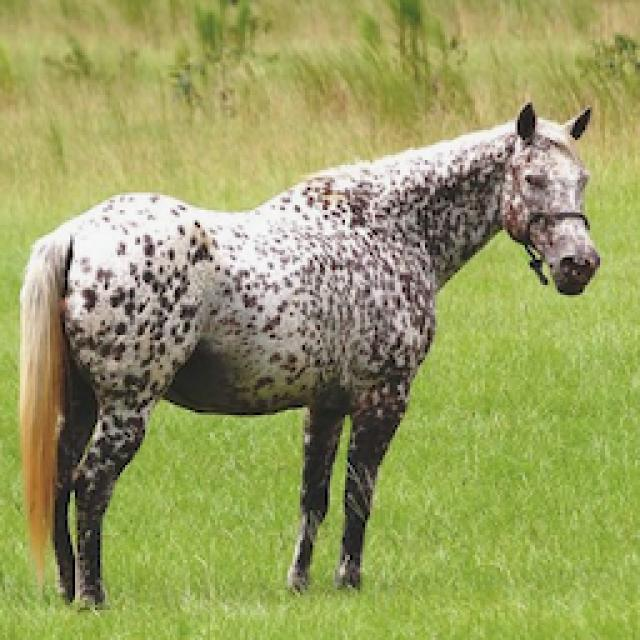Horse: (5, 95, 608, 613)
